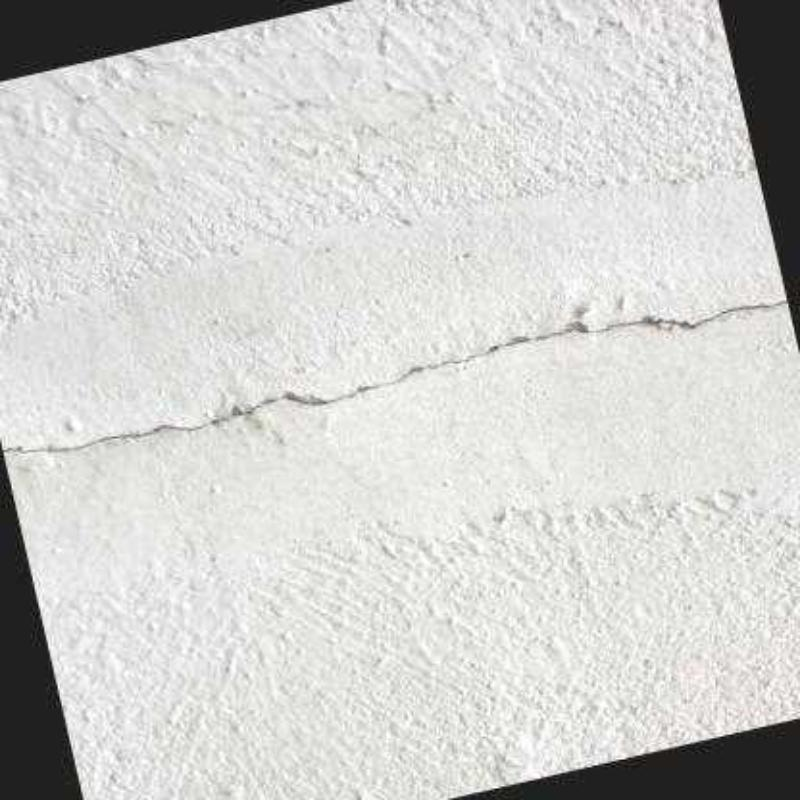pothole: (0, 293, 789, 461)
